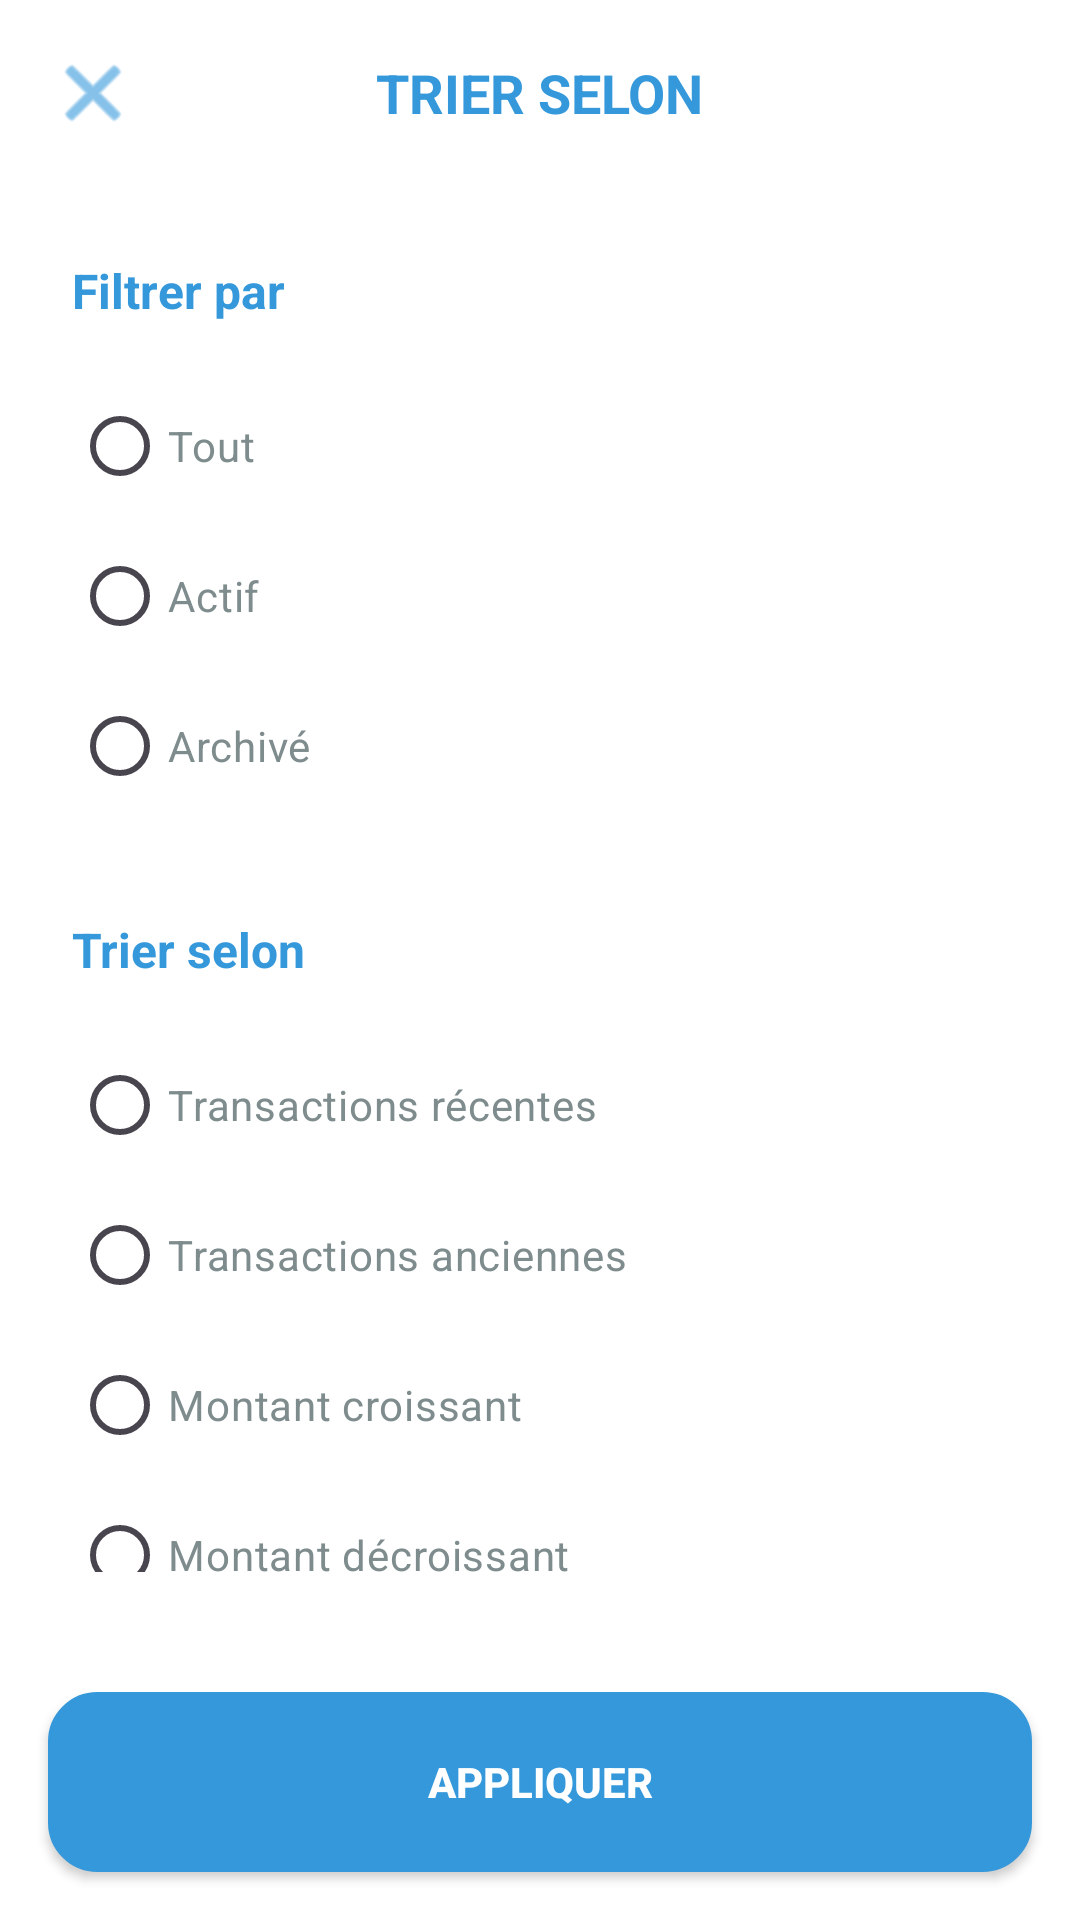

Where icons sit on this 1080 × 1920 app screen, as (x1, y1, x2, y2):
close clear cancel: (65, 65, 121, 121)
